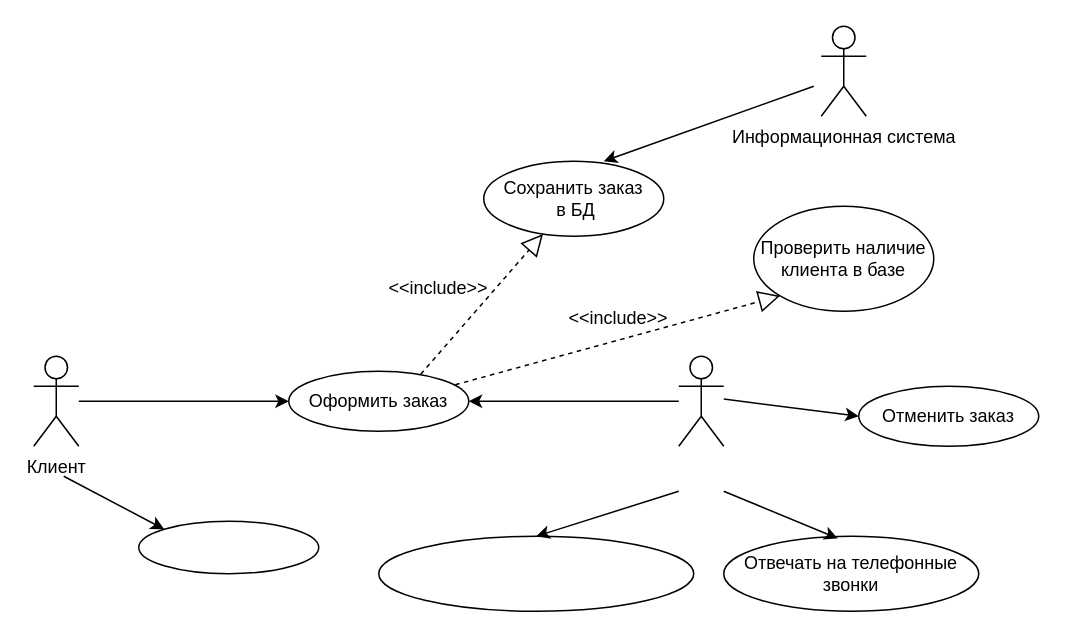
The diagram is 1065 pixels wide and 638 high, and some of its shapes have lost their labels. Here are the shapes that lost their labels. From the top down, the centre of each, then its label:
At point 700,400: "Сотрудник".
At point 228,547: "Сделать заказ".
At point 535,573: "Предоставлять информацию о ценах".
